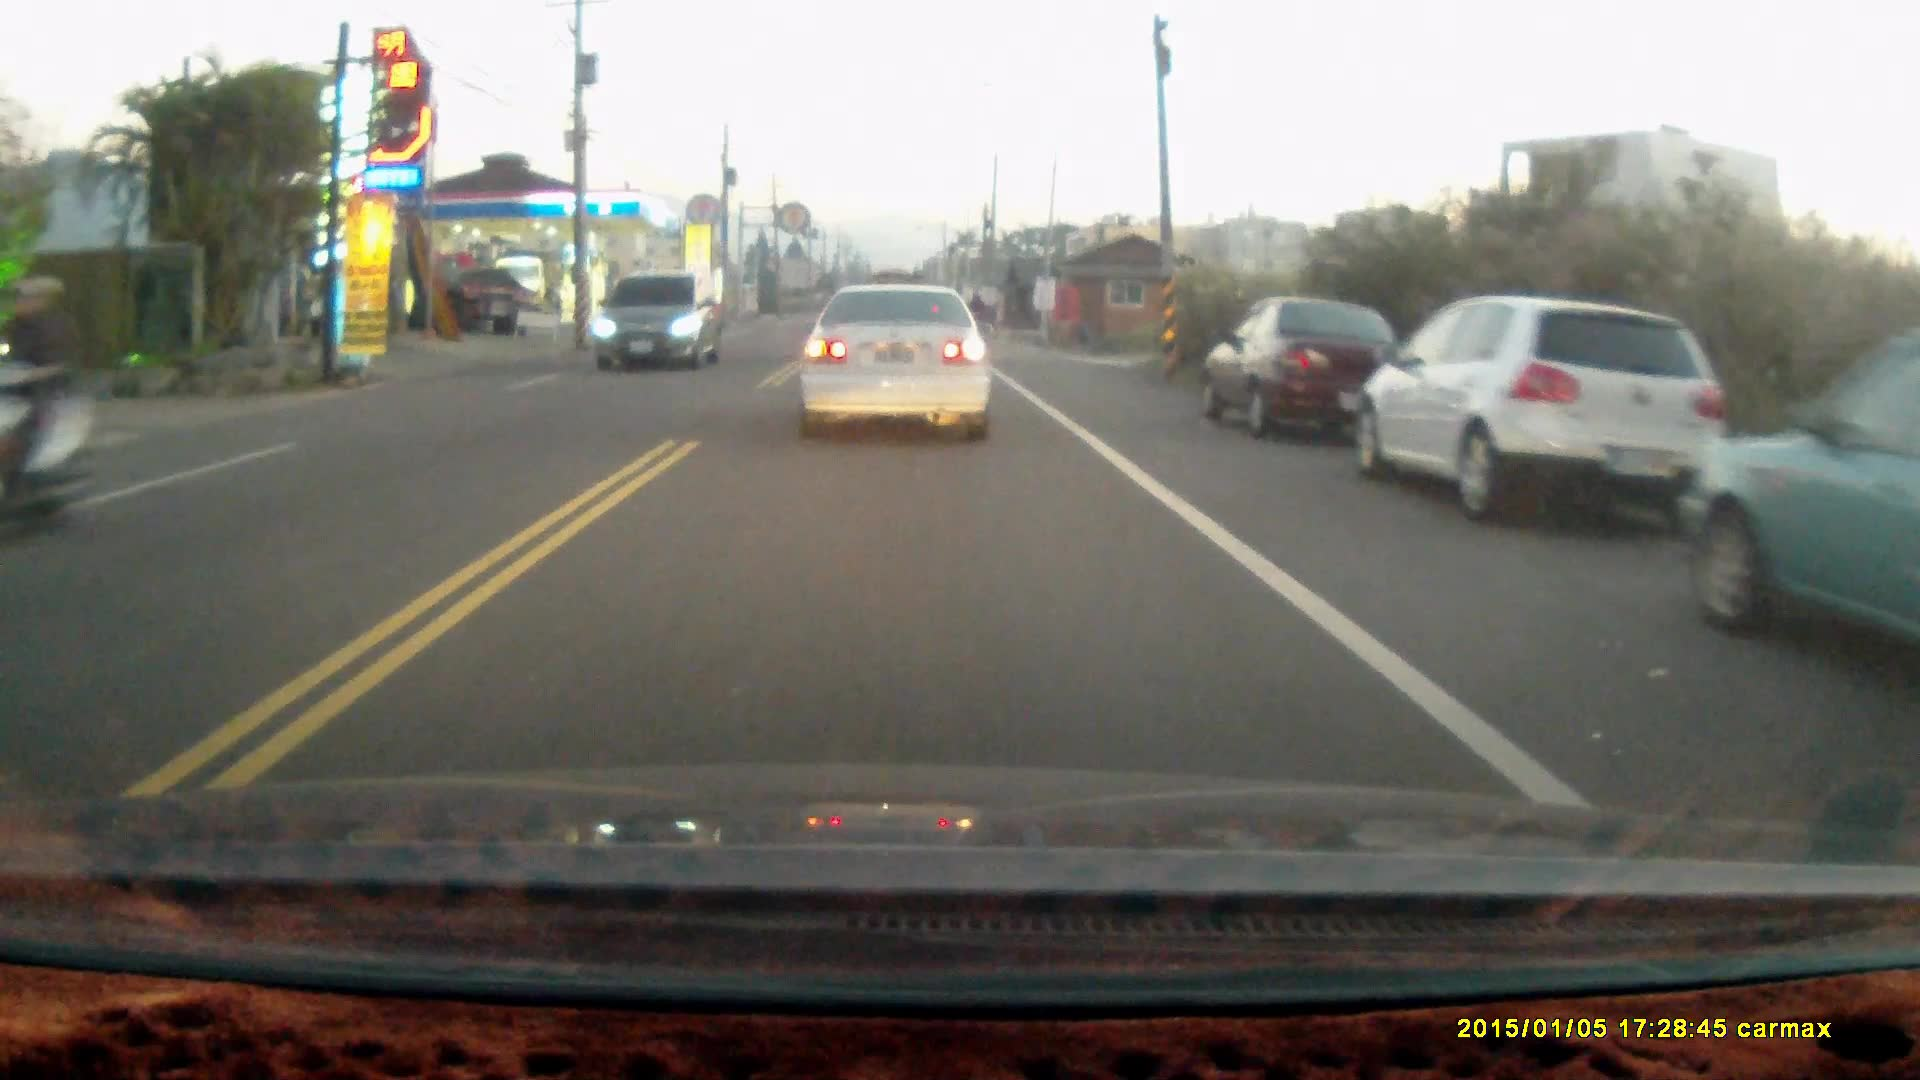rider: (0, 274, 95, 539)
vehicle: (1357, 294, 1733, 520), (1679, 335, 1920, 671), (797, 280, 995, 447), (1202, 296, 1419, 437), (592, 272, 724, 369)
